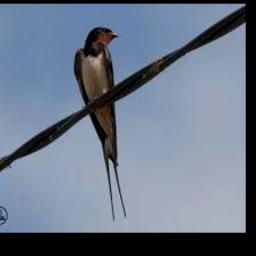Swallow: (74, 27, 127, 220)
